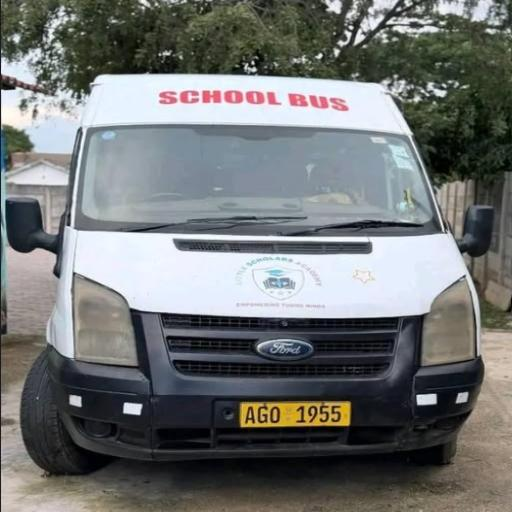number-plates: (238, 399, 358, 433)
